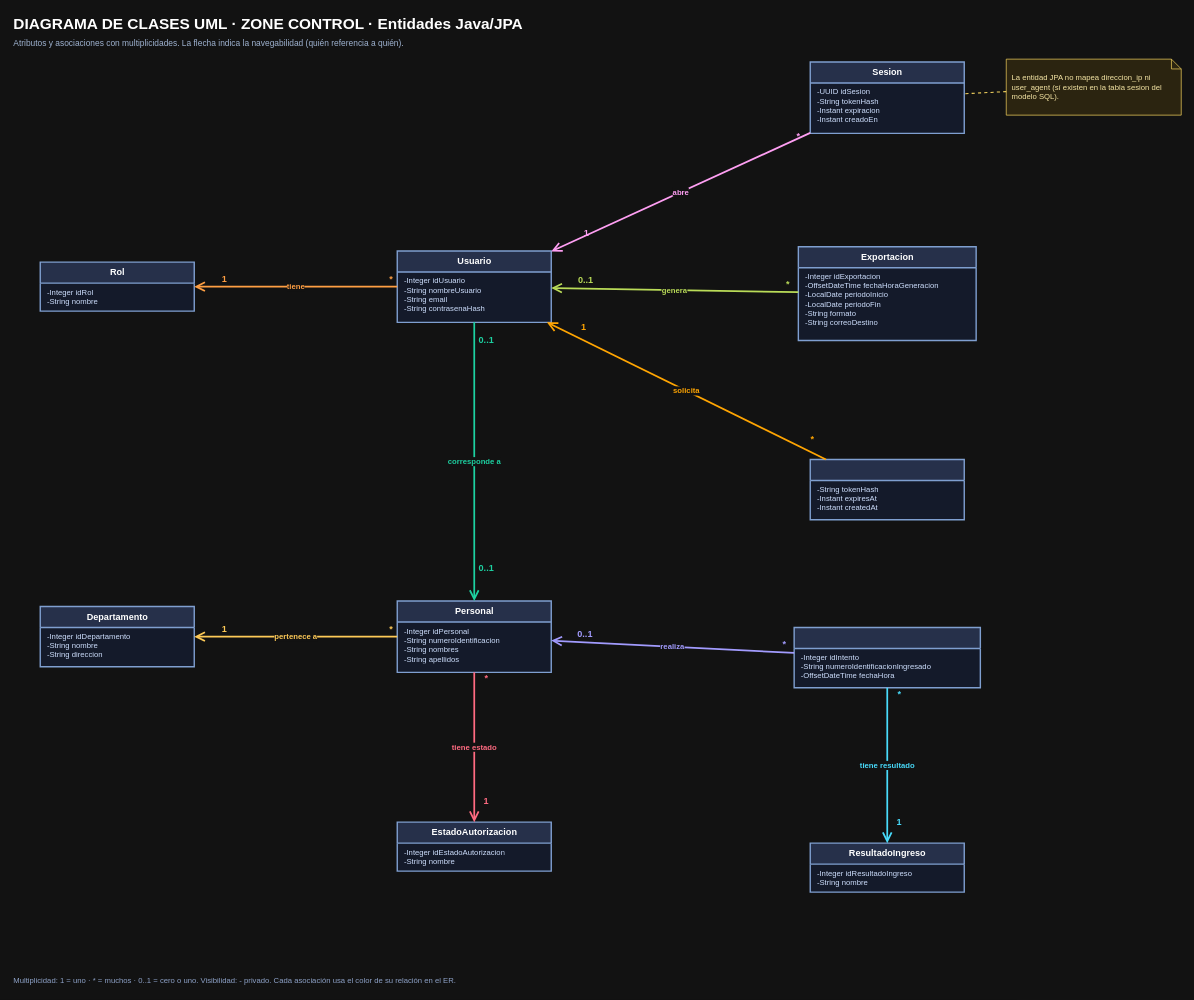
Some shapes in this 1194 by 1000 pixel diagram are drawn without their labels. Each missing label, with the box of its shape:
IntentoIngreso: (793, 626, 981, 688)
PasswordResetToken: (809, 458, 965, 520)
